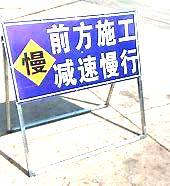sign: (10, 13, 138, 100)
